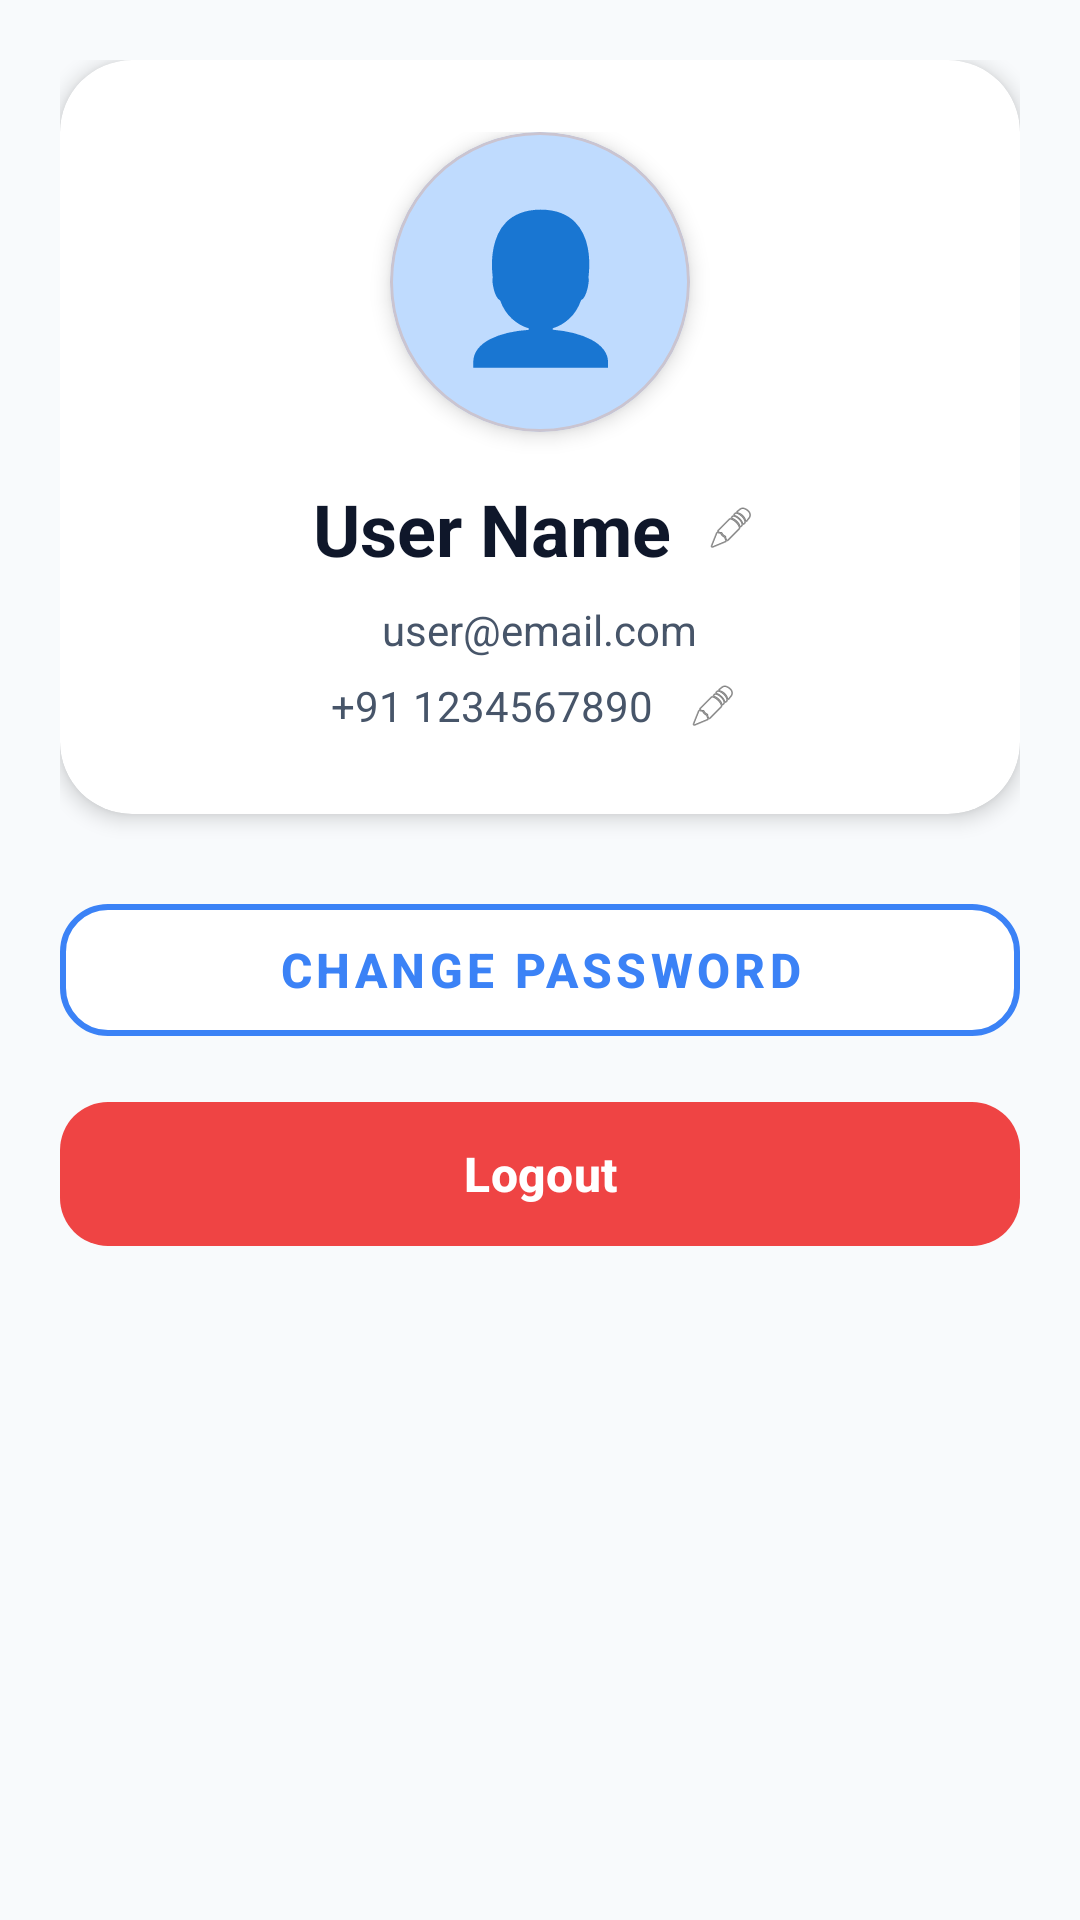

Screen size 1080×1920. Icon name, then its box in pixels as (x1, y1, x2, y2):
Edit Name: (710, 507, 751, 548)
Edit Phone: (692, 685, 733, 726)
